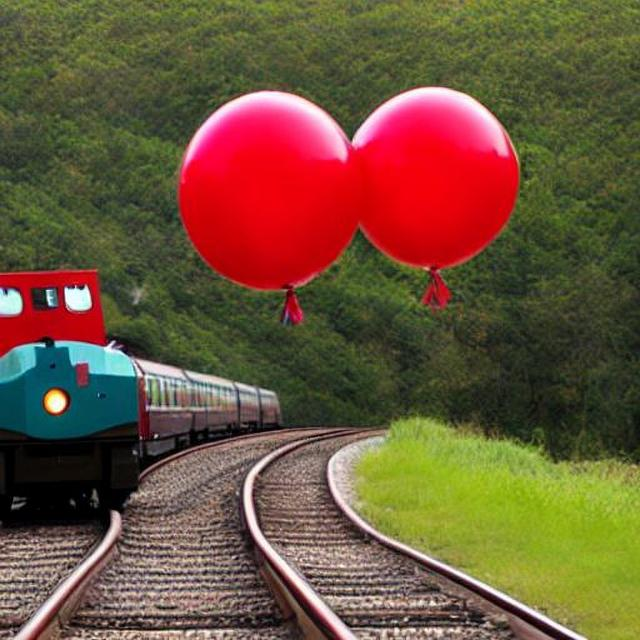balloon: (170, 88, 353, 301), (352, 86, 526, 269)
